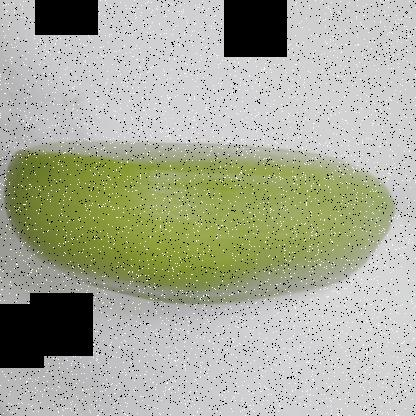freshunripe: (1, 140, 398, 312)
